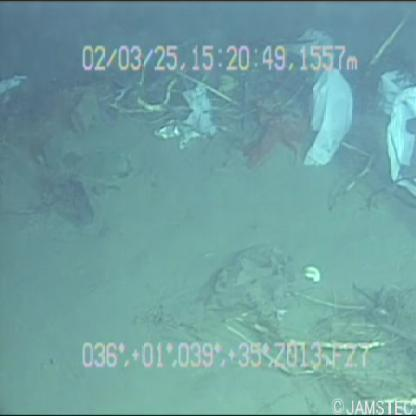Rác: (270, 25, 358, 177), (149, 68, 228, 158), (378, 60, 416, 197)
